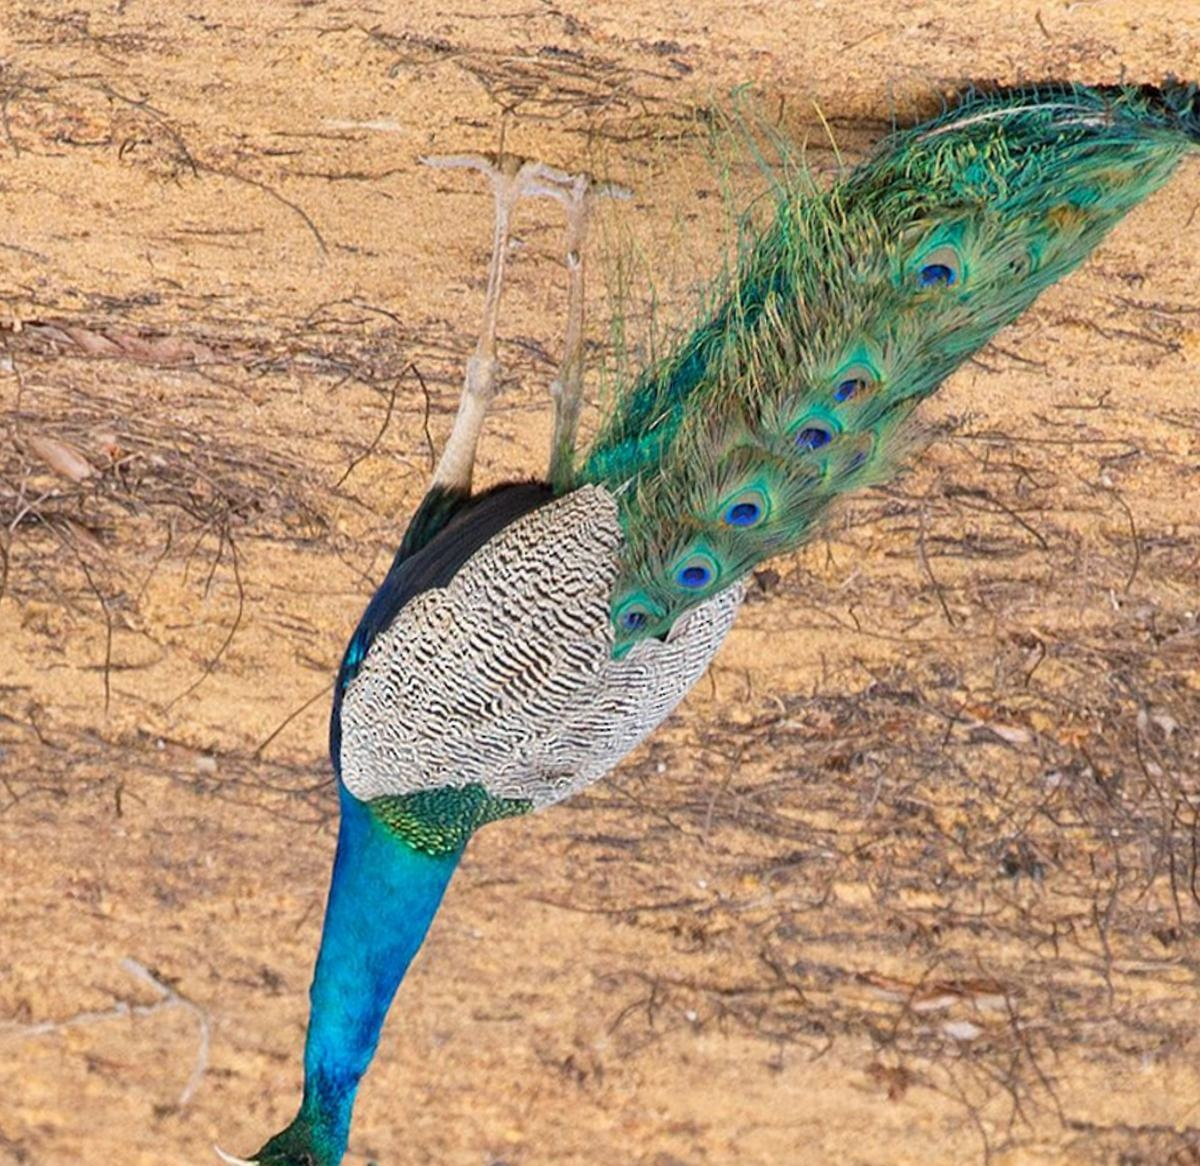peacock: (1, 93, 1183, 1166)
